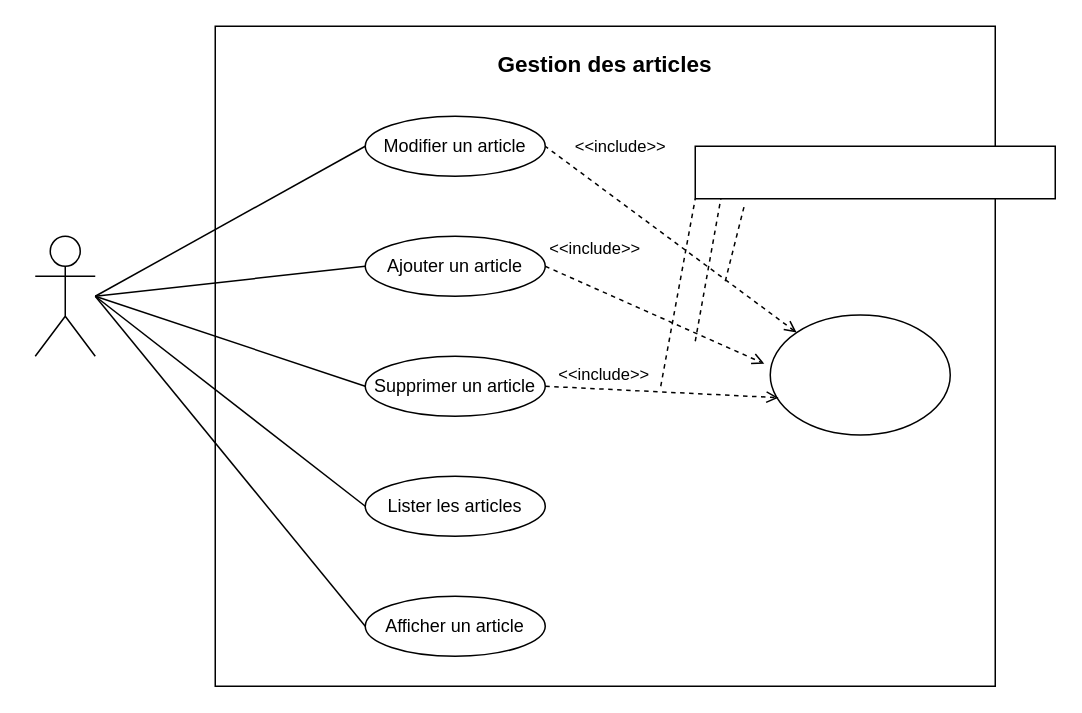
The diagram is 1082 pixels wide and 713 high, and some of its shapes have lost their labels. The shapes that lost their labels are listed below. From the top down, each one's centre as x and y in pixels, then its label:
At point 874,172: "Condition : rôle utilisateur = admin".
At point 64,295: "Utilisateur".
At point 859,374: "S'authentifier".
